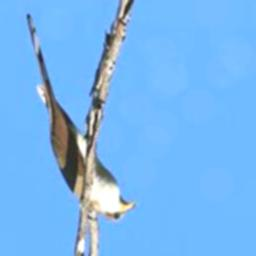Cuckoo: (26, 14, 136, 224)
